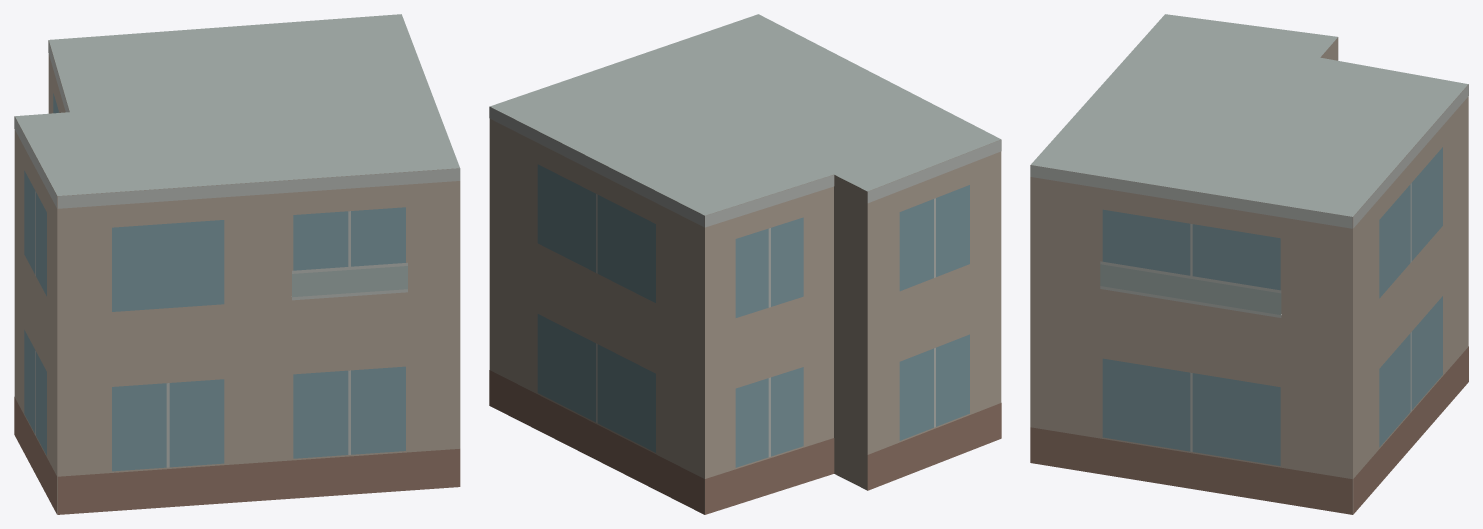
The model's file is survey-upis-32549682.glb.
The picture shows the model from 3 angles, left to right: view 1: azimuth 30°, elevation 25°; view 2: azimuth 150°, elevation 25°; view 3: azimuth 270°, elevation 25°; orthographic projection. The views are drawn at different scales.
Parts seen in each view (by area): view 1: survey-upis-32549682.tmp; view 2: survey-upis-32549682.tmp; view 3: survey-upis-32549682.tmp.
Part boxes in pixels (bbox=[...]): survey-upis-32549682.tmp: bbox=[14, 14, 460, 514]; survey-upis-32549682.tmp: bbox=[489, 14, 1001, 514]; survey-upis-32549682.tmp: bbox=[1030, 14, 1468, 514].
Size of the model in its own units: 8.92 by 6.1 by 8.14.
